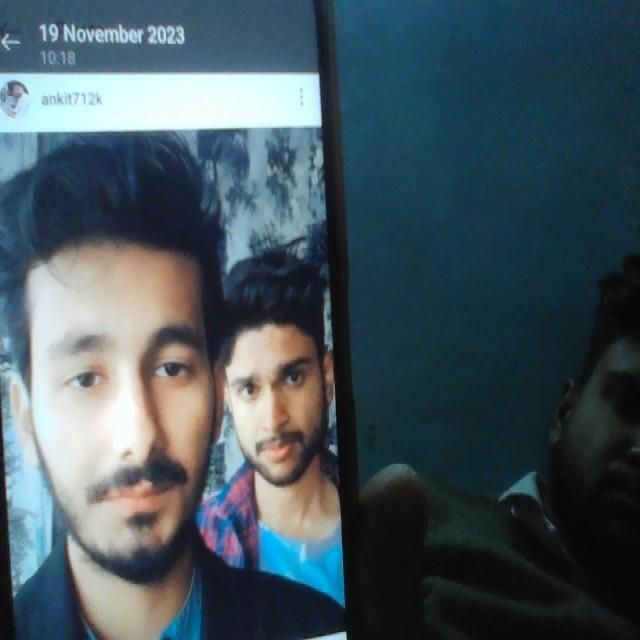fake: (0, 117, 259, 607), (222, 268, 342, 495)
